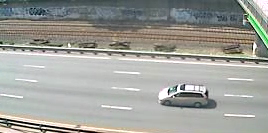car: (156, 82, 211, 110)
